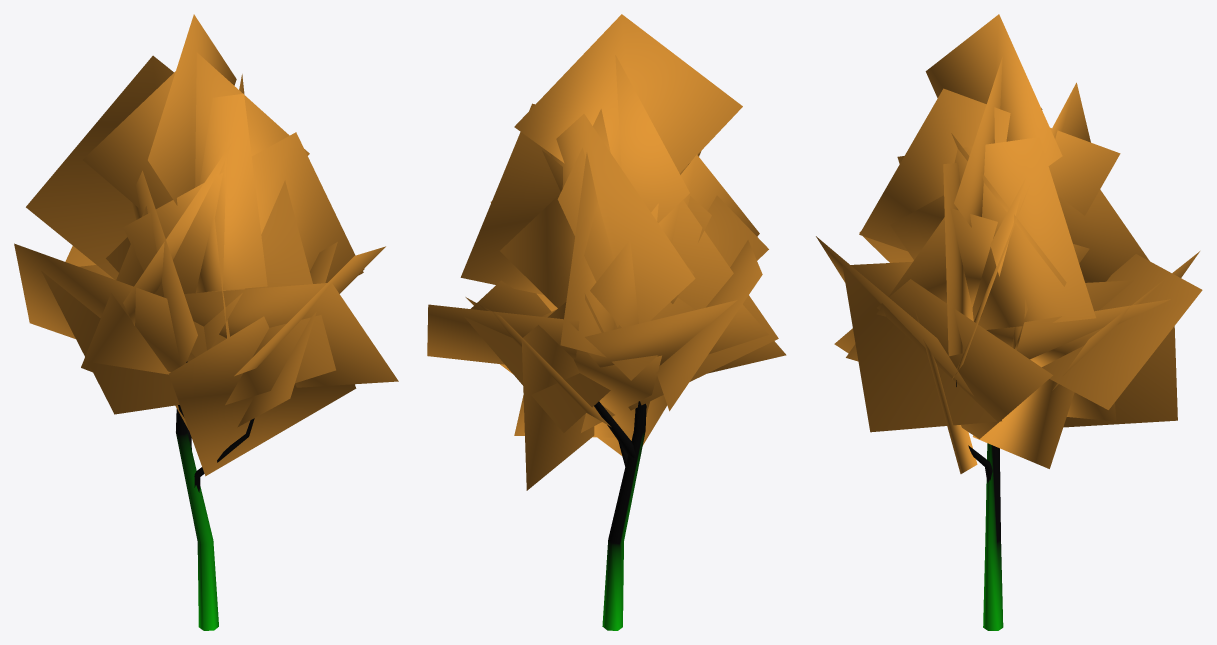
File: SM_RedMapleSapling01.fbx
3 renders of one model, left to right at view 1: azimuth 30°, elevation 25°; view 2: azimuth 150°, elevation 25°; view 3: azimuth 270°, elevation 25°, orthographic.
Parts seen in each view (by area): view 1: SM_RedMapleSapling01_LOD1; view 2: SM_RedMapleSapling01_LOD1; view 3: SM_RedMapleSapling01_LOD1.
Boxes of the visible parts, x1,y1,x2,y2 form: SM_RedMapleSapling01_LOD1: (14, 14, 398, 630); SM_RedMapleSapling01_LOD1: (427, 14, 786, 630); SM_RedMapleSapling01_LOD1: (816, 14, 1202, 630).
Bounding box in the file's own units: 210 × 384 × 222.
